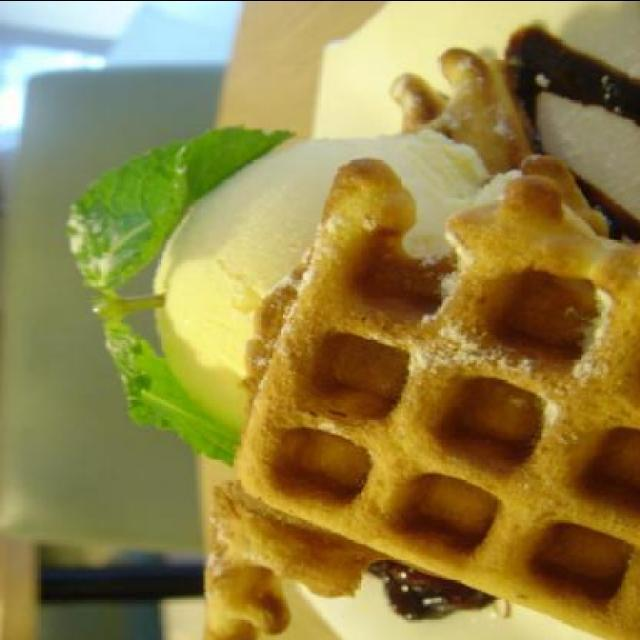Waffle: (203, 158, 640, 640), (390, 43, 550, 180)
